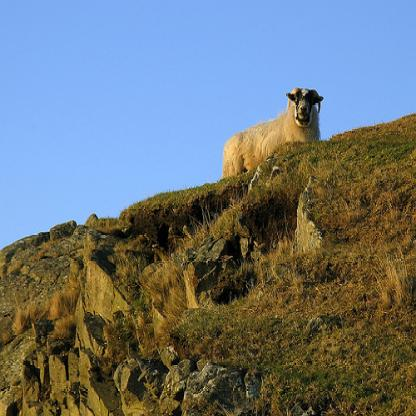sheep: (221, 86, 324, 180)
